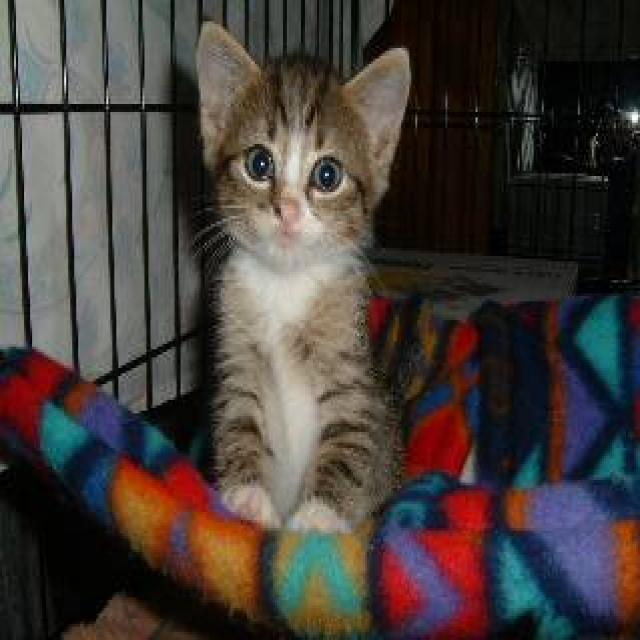cat: (189, 19, 411, 536)
